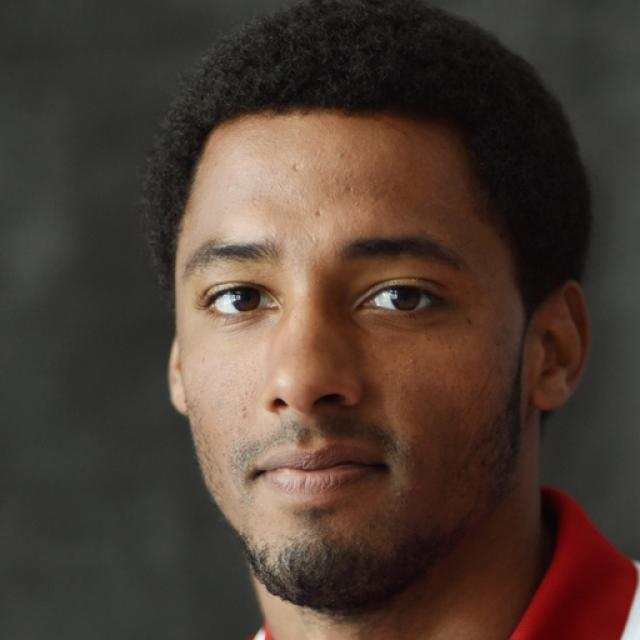neutral: (174, 106, 522, 602)
